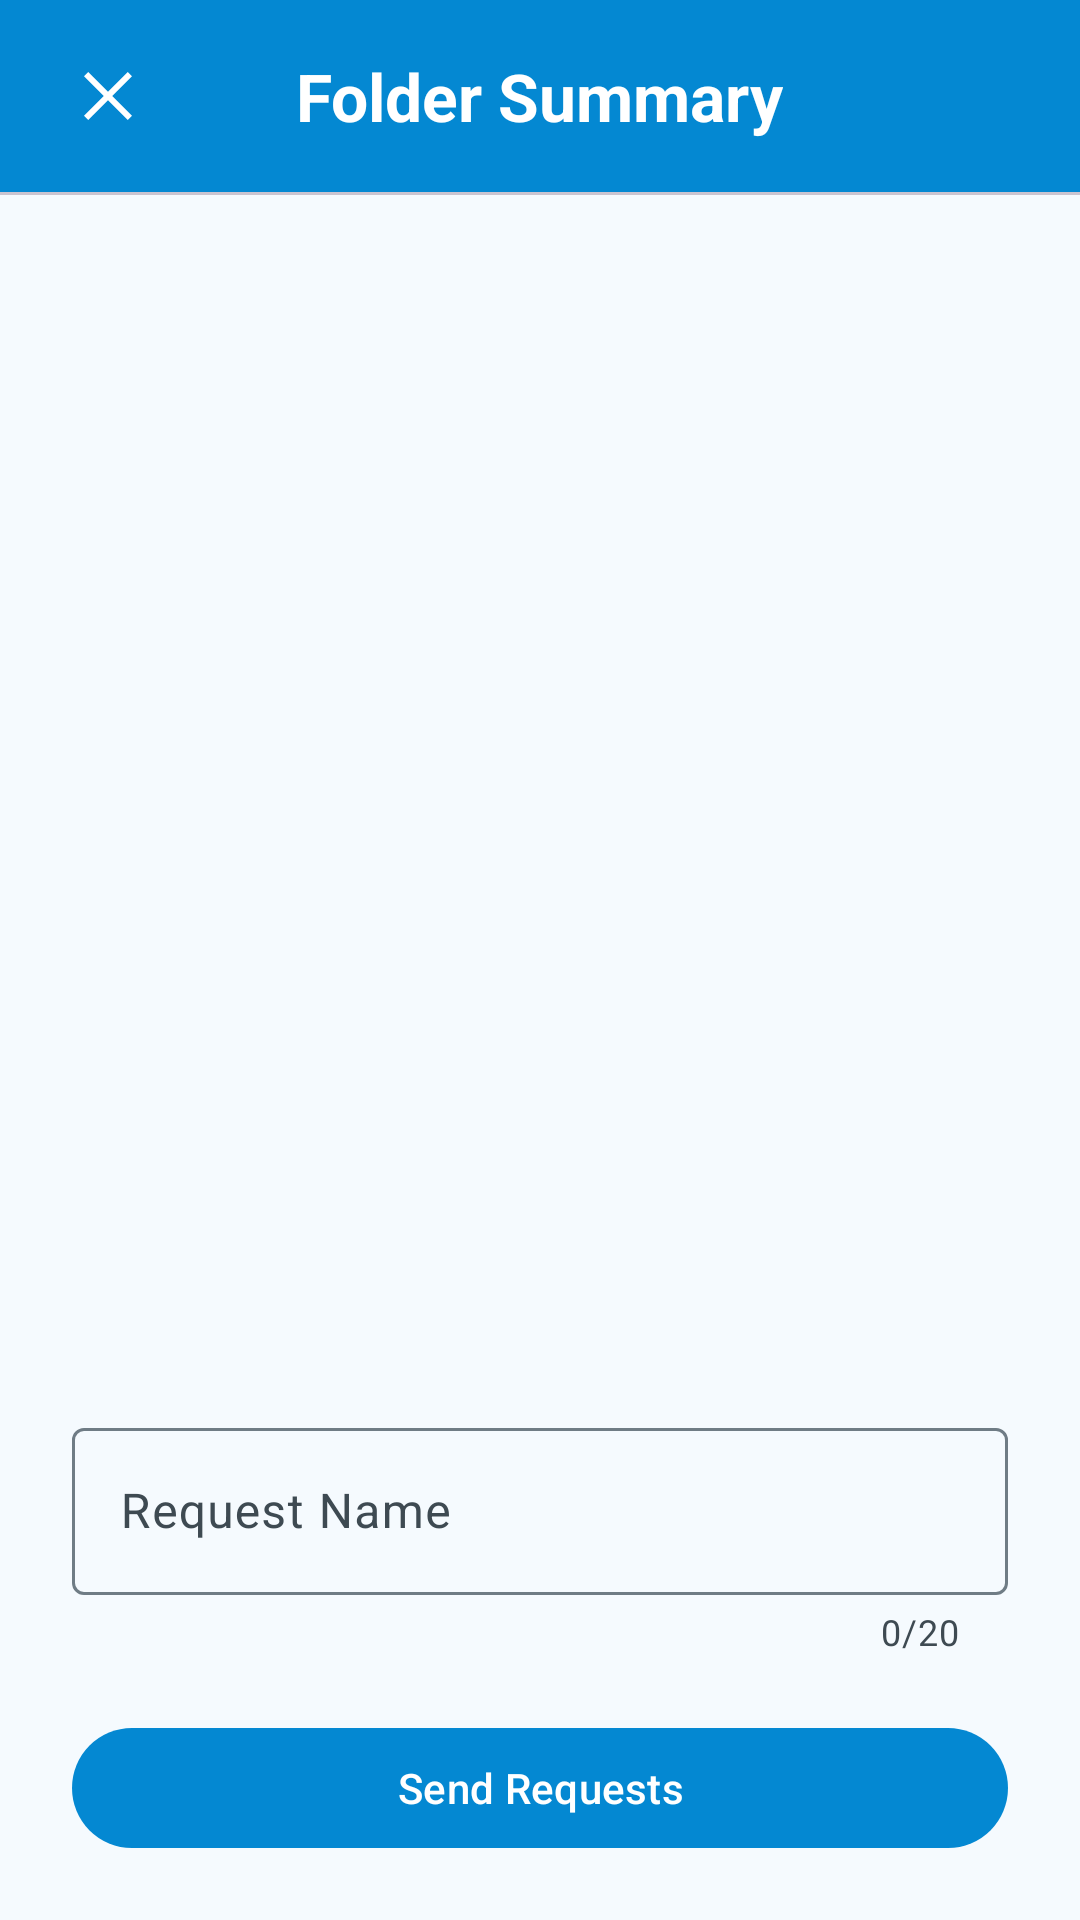

Point at icon controls on the screen. Image size 1080×1920, points as (x=x, y=y).
Close: (x=108, y=96)
